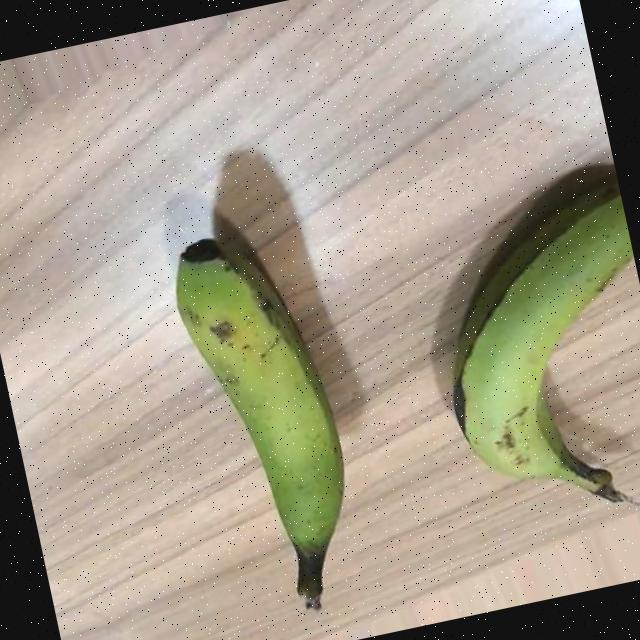Unripe: (164, 218, 374, 628), (411, 169, 640, 543)
